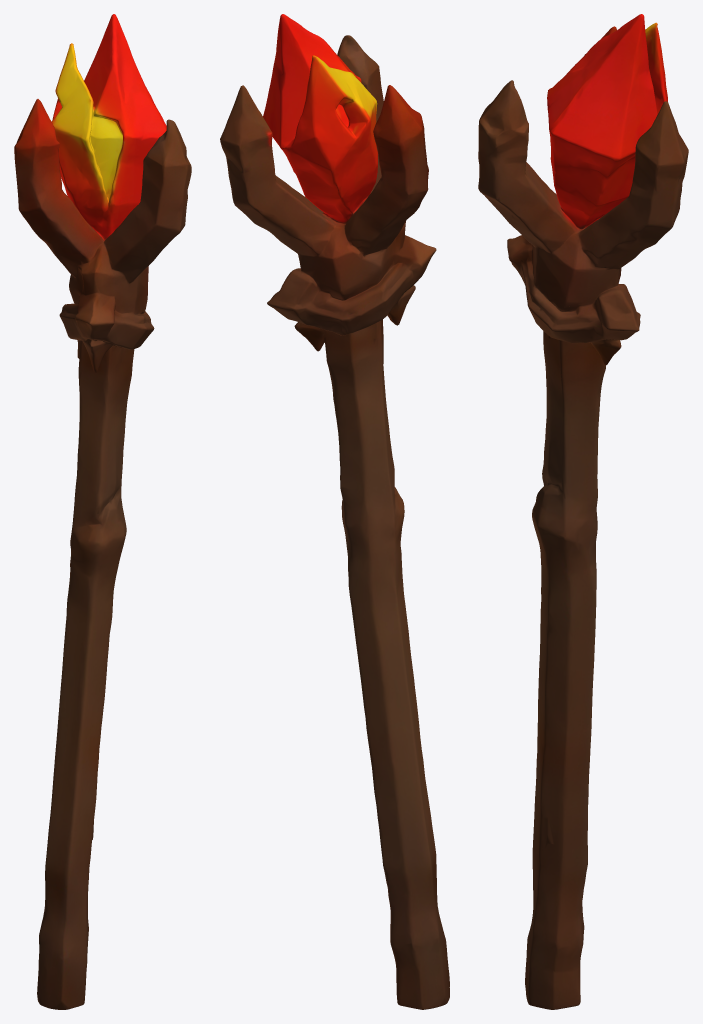
The model's file is wooden_fire_staff.glb.
3 renders of one model, left to right at view 1: azimuth 30°, elevation 25°; view 2: azimuth 150°, elevation 25°; view 3: azimuth 270°, elevation 25°, orthographic. The views are drawn at different scales.
Visible parts, largest first — view 1: tripo_node_9399286d-54aa-49ff-9b01-8b6c1bd43fd9; view 2: tripo_node_9399286d-54aa-49ff-9b01-8b6c1bd43fd9; view 3: tripo_node_9399286d-54aa-49ff-9b01-8b6c1bd43fd9.
Boxes of the visible parts, x1,y1,x2,y2 form: tripo_node_9399286d-54aa-49ff-9b01-8b6c1bd43fd9: [14, 14, 191, 1009]; tripo_node_9399286d-54aa-49ff-9b01-8b6c1bd43fd9: [220, 14, 449, 1009]; tripo_node_9399286d-54aa-49ff-9b01-8b6c1bd43fd9: [478, 14, 688, 1009].
Bounding box in the file's own units: 0.1817 × 1 × 0.1843.
1 material, 1 textured.
